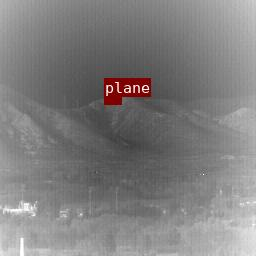plane: (104, 97, 121, 104)
